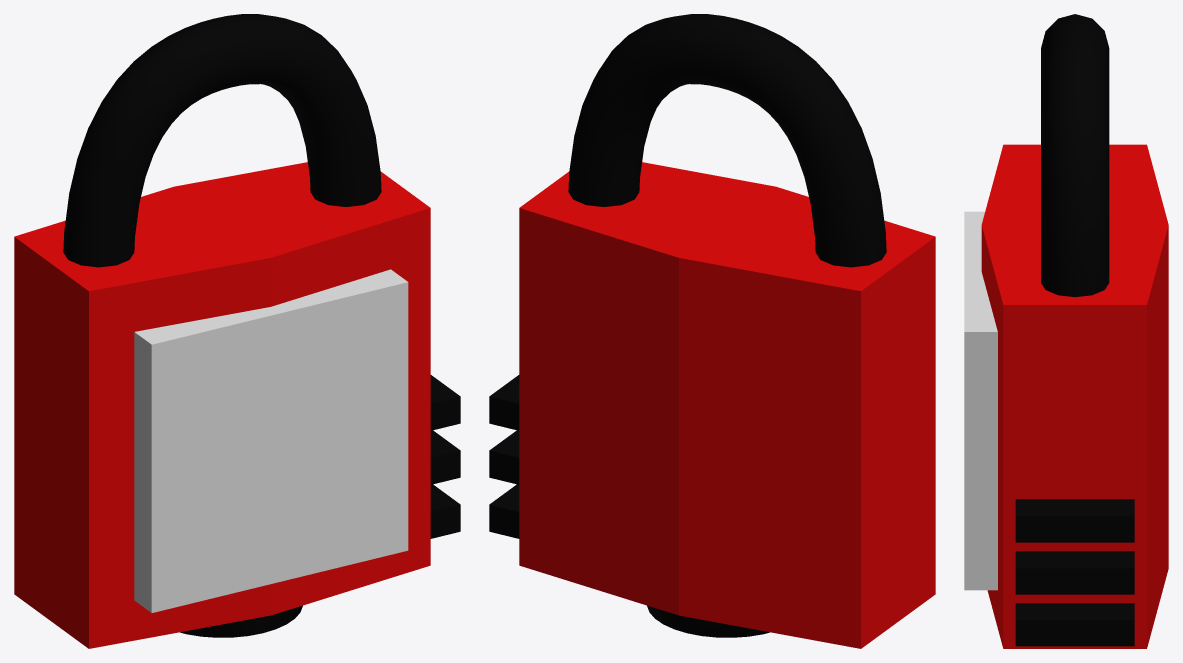
The model's file is lock.fbx.
3 views of the same model, side by side, from view 1: azimuth 30°, elevation 25°; view 2: azimuth 150°, elevation 25°; view 3: azimuth 270°, elevation 25° (orthographic). The views are drawn at different scales.
Parts seen in each view (by area): view 1: Cube.002; view 2: Cube.002; view 3: Cube.002.
Part boxes in pixels (bbox=[...]): Cube.002: bbox=[14, 14, 460, 648]; Cube.002: bbox=[489, 14, 935, 648]; Cube.002: bbox=[964, 14, 1168, 648].
Bounding box in the file's own units: 221 × 326 × 108.
